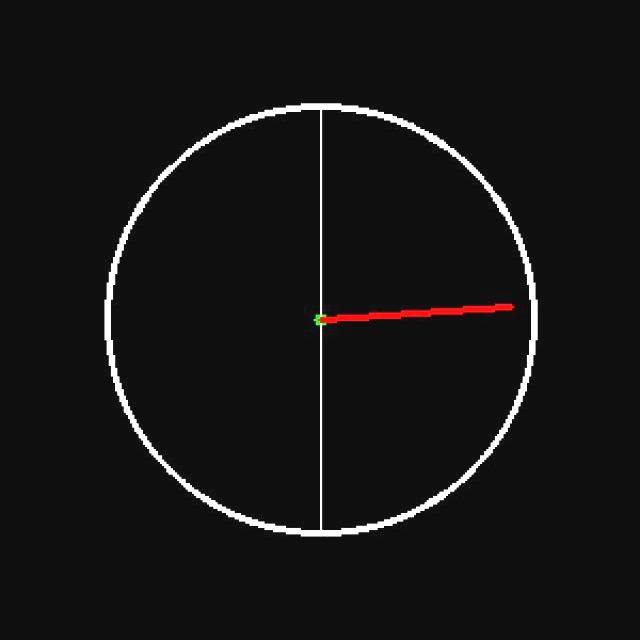Needle_Tip: (478, 280, 531, 330)
Needle_base: (296, 302, 349, 341)
